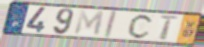4: (24, 6, 48, 34)
9: (51, 8, 77, 36)
C: (127, 13, 156, 40)
I: (101, 10, 119, 40)
M: (73, 9, 106, 37)
T: (158, 14, 179, 41)
